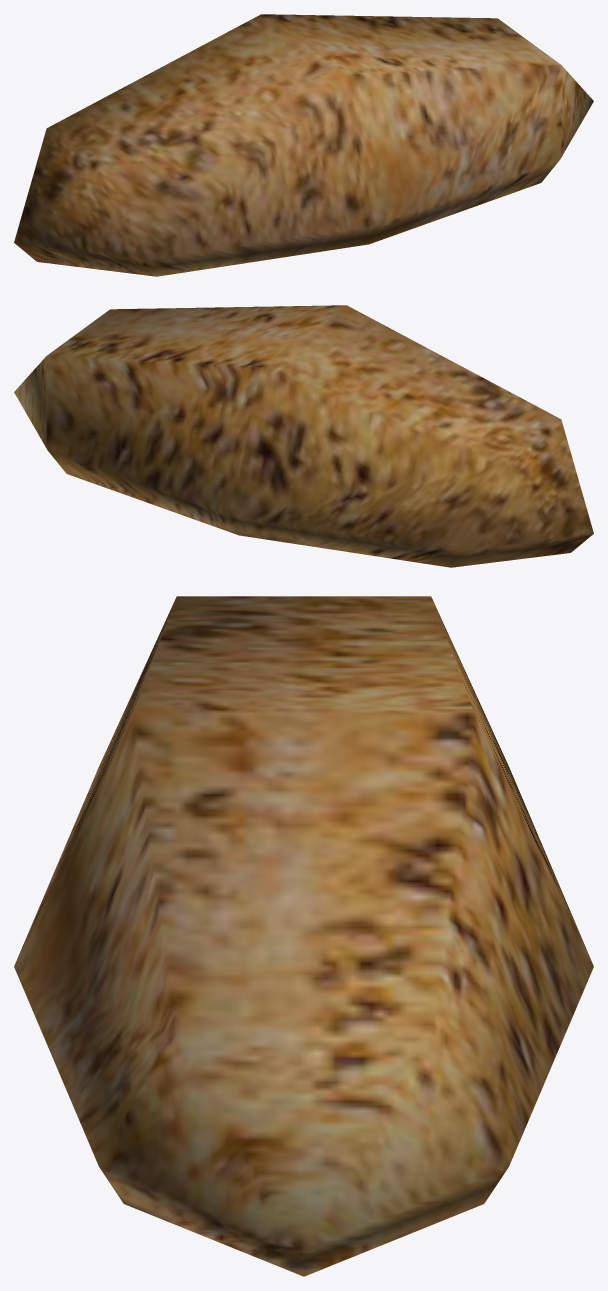
File: food-bread04.glb
The picture shows the model from 3 angles, top to bottom: view 1: azimuth 30°, elevation 25°; view 2: azimuth 150°, elevation 25°; view 3: azimuth 270°, elevation 25°; orthographic projection. The views are drawn at different scales.
Visible parts, largest first — view 1: food-bread04; view 2: food-bread04; view 3: food-bread04.
Part boxes in pixels (bbox=[...]): food-bread04: bbox=[14, 14, 593, 276]; food-bread04: bbox=[14, 305, 593, 567]; food-bread04: bbox=[14, 596, 593, 1276].
Size of the model in its own units: 0.372 by 0.0927 by 0.1612.
1 material, 1 textured.
